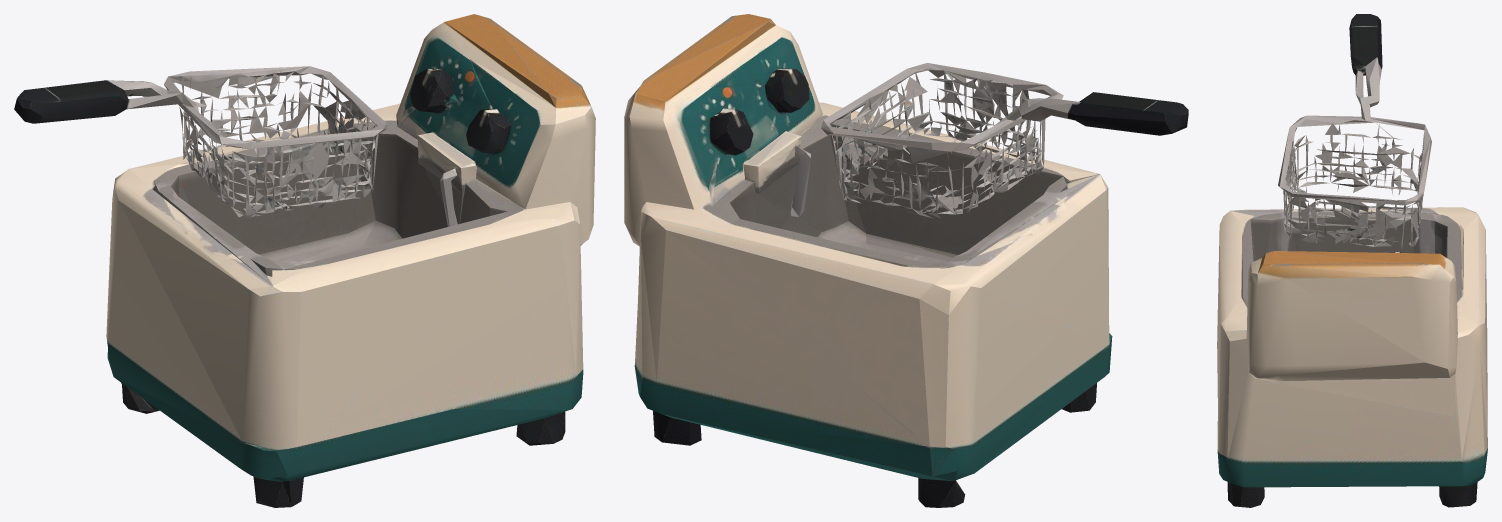
File: rounded-restaurant-countertop-fryer-basket-raised.glb
3 renders of one model, left to right at view 1: azimuth 30°, elevation 25°; view 2: azimuth 150°, elevation 25°; view 3: azimuth 270°, elevation 25°, orthographic. The views are drawn at different scales.
Visible parts, largest first — view 1: Mesh_0; view 2: Mesh_0; view 3: Mesh_0.
Part boxes in pixels (x1,y1,x2,y2): Mesh_0: (14, 14, 595, 507); Mesh_0: (624, 14, 1188, 507); Mesh_0: (1217, 14, 1487, 507).
Bounding box in the file's own units: 0.44 × 0.3203 × 0.2492.
Materials: 1 (1 with a texture image).
